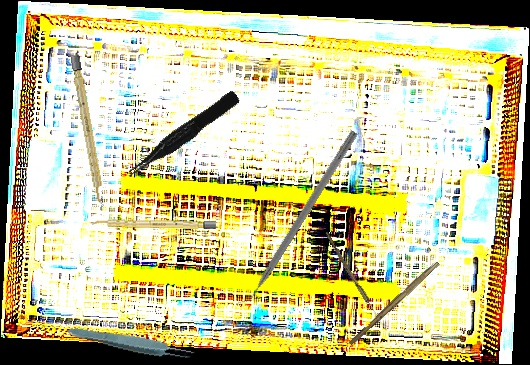Chopper: (231, 124, 359, 311)
Scalpel Handle: (348, 258, 440, 348), (70, 53, 106, 208), (91, 218, 217, 230)
Surgical Spoon: (322, 231, 387, 328)
Tissue Forceps: (122, 89, 244, 179), (66, 322, 197, 365)
